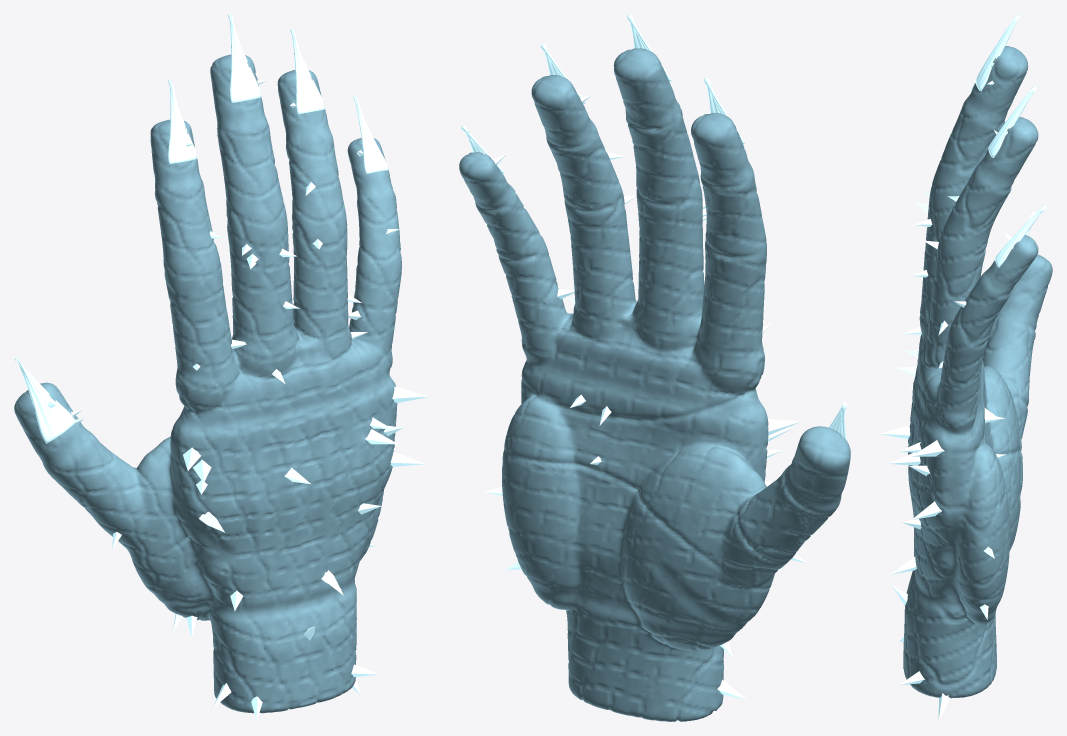
File: family-16.glb
3 renders of one model, left to right at view 1: azimuth 30°, elevation 25°; view 2: azimuth 150°, elevation 25°; view 3: azimuth 270°, elevation 25°, orthographic. The views are drawn at different scales.
Visible parts, largest first — view 1: fingers__fingers_sculpt, back_of_hand__back_of_hand_sculpt, wrist__wrist_sculpt, fingertips__fingertips_sculpt, back_of_hand, palm__palm_sculpt, nails__thumb_claw, nails__middle_claw, nails__ring_claw, nails__index_claw, fingers, nails__pinky_claw (+1 smaller); view 2: fingers__fingers_sculpt, palm__palm_sculpt, wrist__wrist_sculpt, fingertips__fingertips_sculpt; view 3: fingers__fingers_sculpt, palm__palm_sculpt, wrist__wrist_sculpt, fingertips__fingertips_sculpt, back_of_hand__back_of_hand_sculpt, back_of_hand, nails__middle_claw, nails__ring_claw, fingers, nails__pinky_claw, wrist, palm.
Boxes of the visible parts, bbox=[...] form: fingers__fingers_sculpt: bbox=[42, 114, 401, 595]; back_of_hand__back_of_hand_sculpt: bbox=[174, 373, 397, 612]; wrist__wrist_sculpt: bbox=[164, 580, 356, 713]; fingertips__fingertips_sculpt: bbox=[14, 54, 391, 462]; back_of_hand: bbox=[183, 386, 429, 611]; palm__palm_sculpt: bbox=[155, 416, 383, 606]; nails__thumb_claw: bbox=[14, 357, 74, 443]; nails__middle_claw: bbox=[227, 14, 261, 103]; nails__ring_claw: bbox=[290, 28, 324, 114]; nails__index_claw: bbox=[168, 79, 196, 164]; fingers: bbox=[112, 182, 399, 548]; nails__pinky_claw: bbox=[353, 96, 388, 173]; fingers__fingers_sculpt: bbox=[474, 100, 841, 626]; palm__palm_sculpt: bbox=[502, 357, 762, 635]; wrist__wrist_sculpt: bbox=[531, 583, 735, 721]; fingertips__fingertips_sculpt: bbox=[459, 48, 850, 505]; fingers__fingers_sculpt: bbox=[917, 95, 1036, 493]; palm__palm_sculpt: bbox=[952, 360, 1020, 615]; wrist__wrist_sculpt: bbox=[903, 570, 996, 698]; fingertips__fingertips_sculpt: bbox=[969, 46, 1052, 322]; back_of_hand__back_of_hand_sculpt: bbox=[908, 365, 954, 604]; back_of_hand: bbox=[880, 350, 944, 574]; nails__middle_claw: bbox=[975, 14, 1020, 91]; nails__ring_claw: bbox=[988, 85, 1036, 157]; fingers: bbox=[903, 192, 966, 368]; nails__pinky_claw: bbox=[995, 204, 1046, 267]; wrist: bbox=[891, 585, 950, 720]; palm: bbox=[980, 407, 1006, 619].
Bounding box in the file's own units: 0.1316 × 0.2363 × 0.0559.
2 materials, 1 textured.
